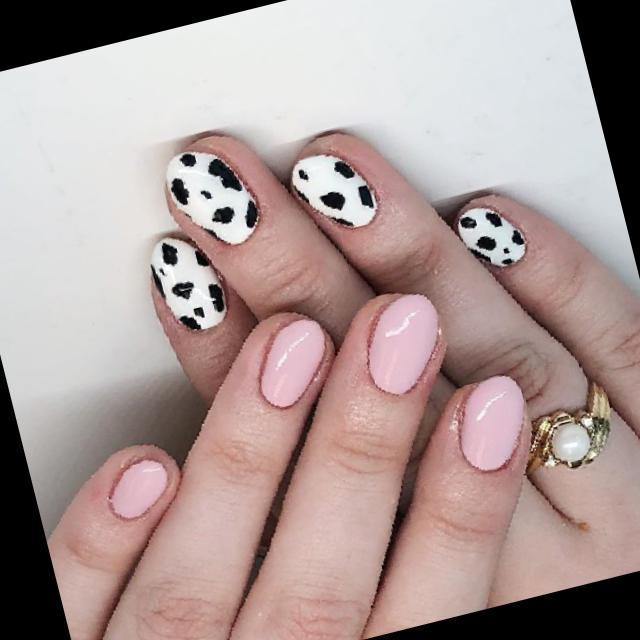Nail: (165, 150, 258, 244), (149, 236, 226, 330), (367, 293, 438, 394), (290, 153, 376, 226), (458, 375, 523, 470), (258, 317, 325, 407), (455, 206, 525, 266), (108, 458, 167, 518)
